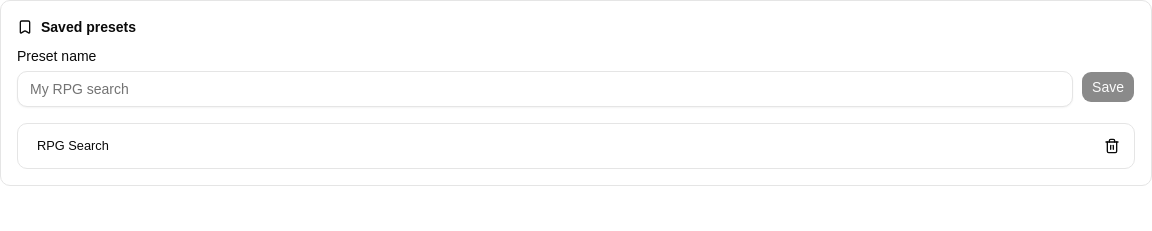
Test case: SavedFilterPresets › trims the preset name before comparing for duplicates
This screenshot has width=1152, height=231.
Type "  rpg search  " into the field labelled "Preset name". click: {"x": 545, "y": 89}
box: x1=17 y1=71 x2=1073 y2=107
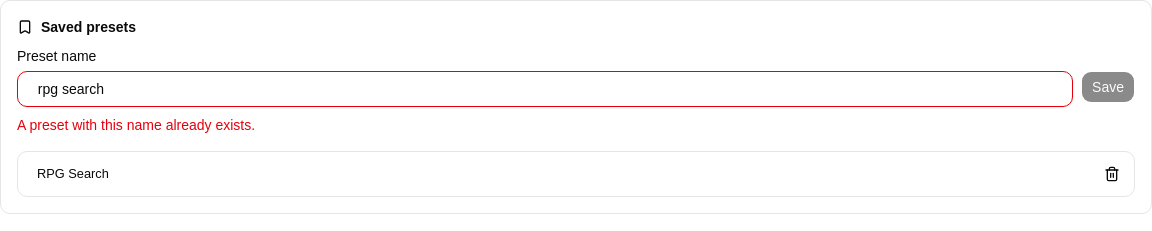
Expected: the button "Save" is disabled, x1=1081 y1=71 x2=1135 y2=103
Expected: the text "A preset with this name already exists." is shown, x1=17 y1=117 x2=255 y2=133
